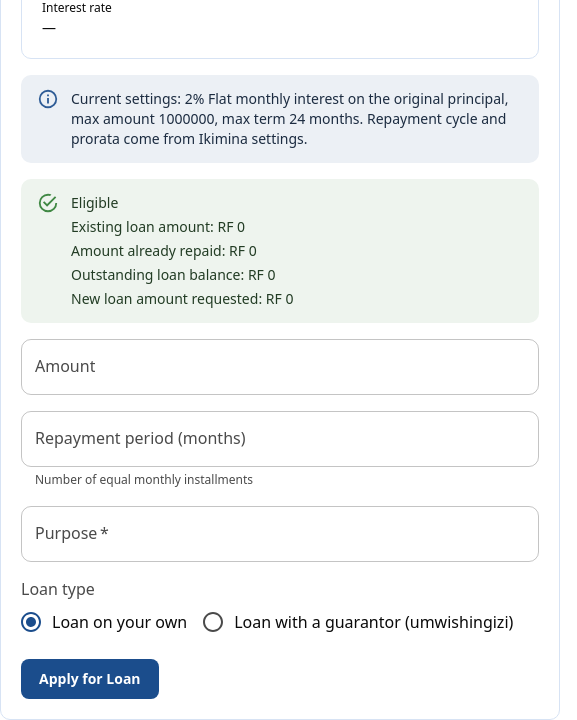
Test: LoanRequestPanel input validation › does not submit a term above 600 months
(page scrolled)
Type "50000" into the field labelled "Amount".
click(280, 367); type("50000")  # box [21,339,539,395]
(page scrolled)
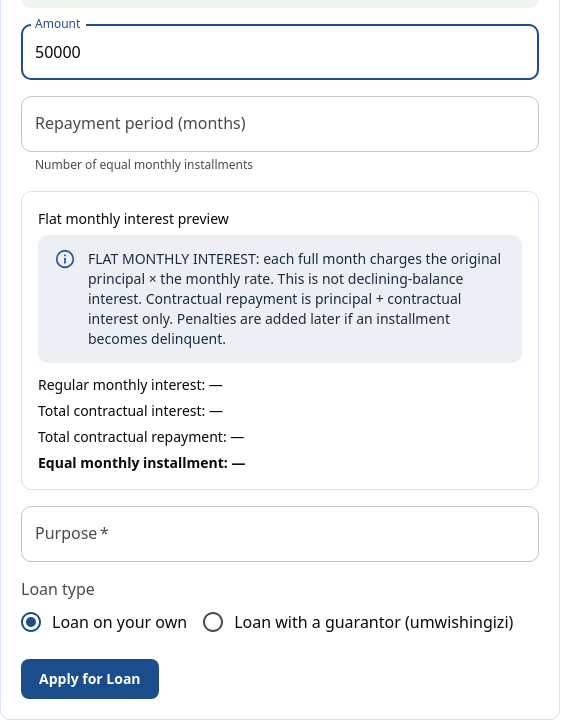
Type "Farm inputs" into the field labelled "Purpose *".
click(280, 534); type("Farm inputs")  # box [21,506,539,562]
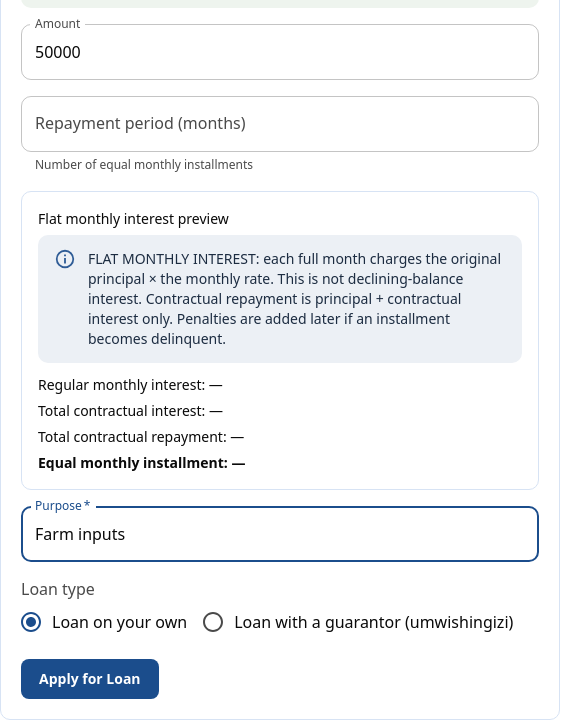
Type "601" into the field labelled "Repayment period (months)".
click(280, 124); type("601")  # box [21,96,539,152]
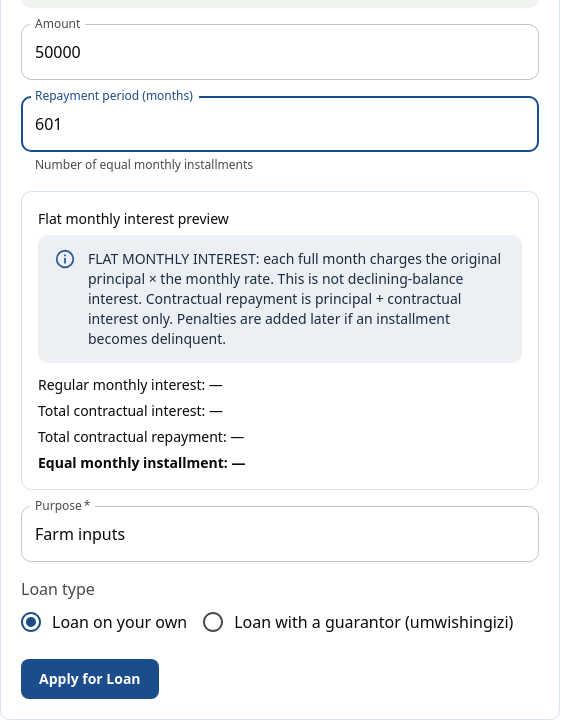
Click the button "Apply for Loan".
click(90, 679)  # box [21,659,159,699]
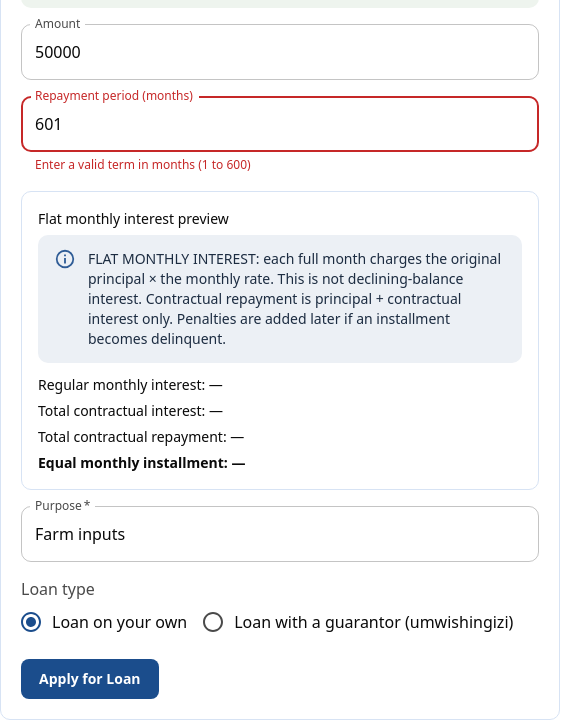
Result: the text "Enter a valid term in months (1 to 600)" is shown at [35,156,251,173]
